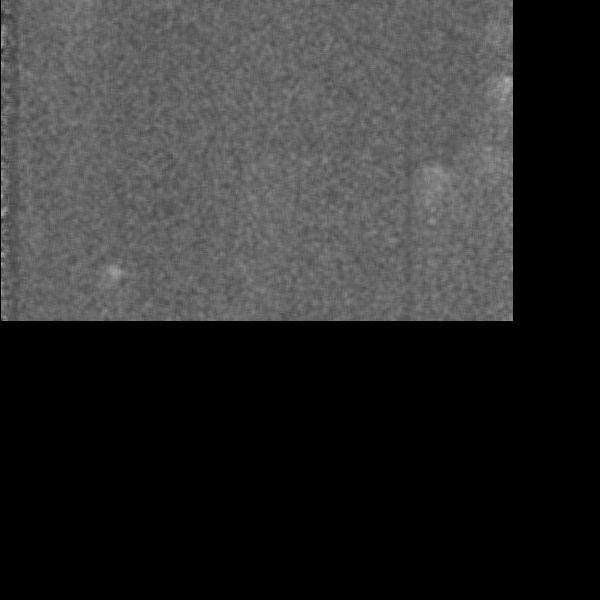spark: (97, 258, 132, 296), (416, 162, 449, 186)
